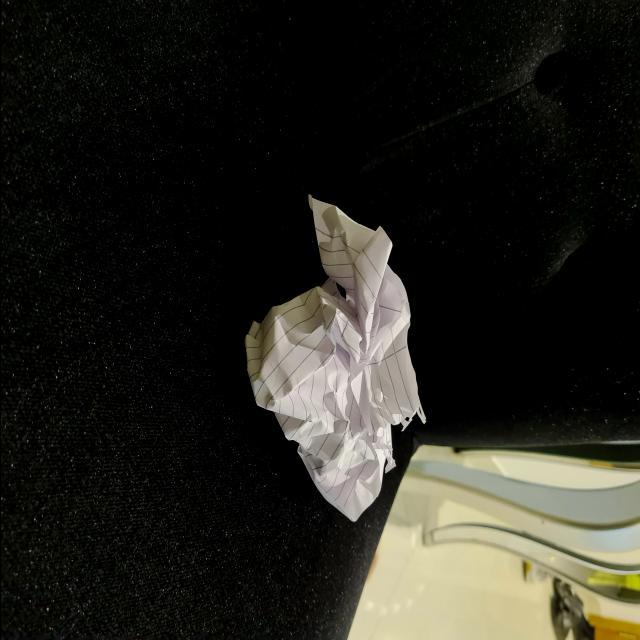Paper: (221, 190, 441, 525)
